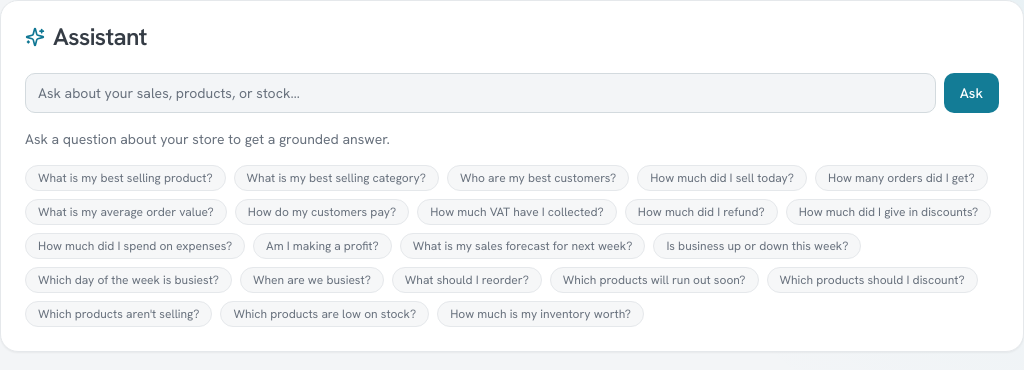
Test: AssistantPanel (#228 in-app assistant surface) › surfaces an error when the assistant request fails
Type "anything" into the field named "assistant" at (480, 93), box [25,73,936,113]
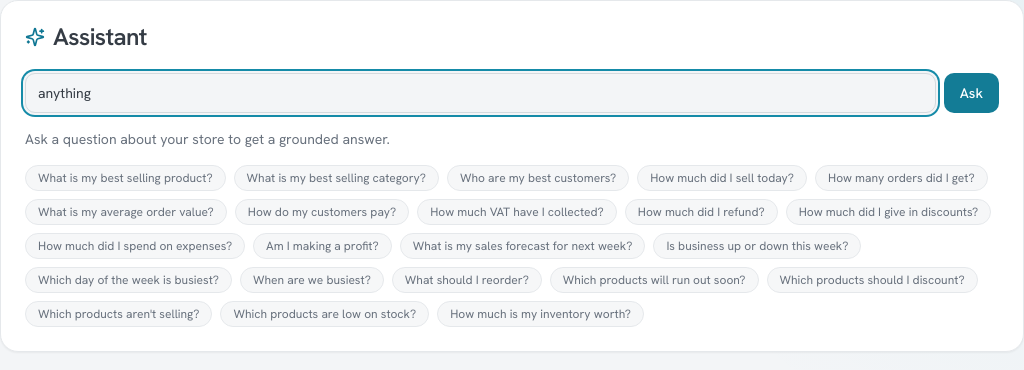
Click the button "Ask" at (971, 93), box [944,73,999,113]
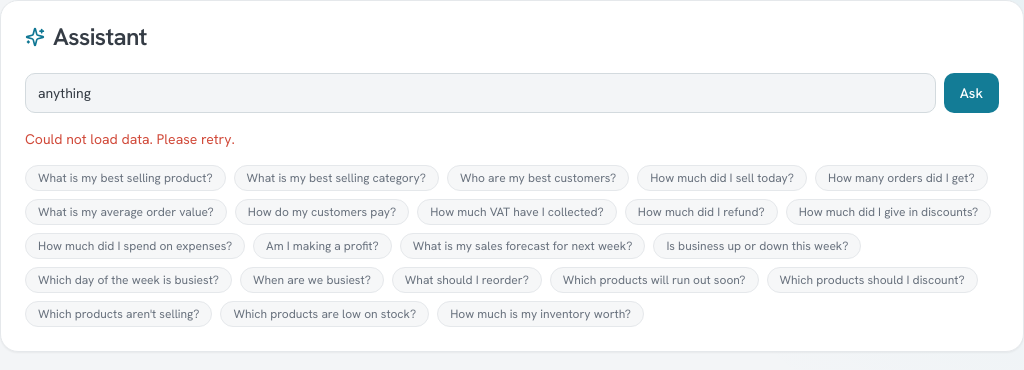
Now the text "Could not load data. Please retry." is shown, box [25,130,235,148]
